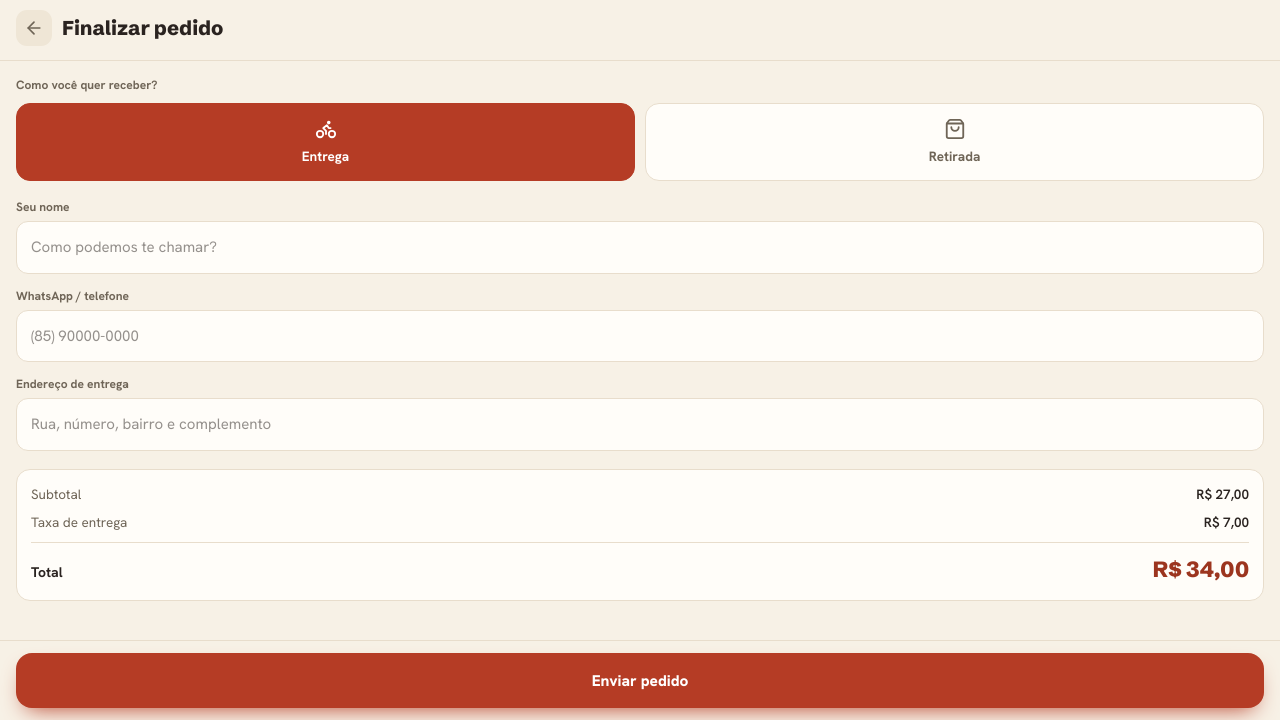
Test: CheckoutScreen order persistence handoff › keeps checkout open and shows retry when a network failure prevents confirmation
Step 1. Type "Cliente Teste" into the field labelled "Seu nome" → {"x": 640, "y": 248}, box [16,221,1264,274]
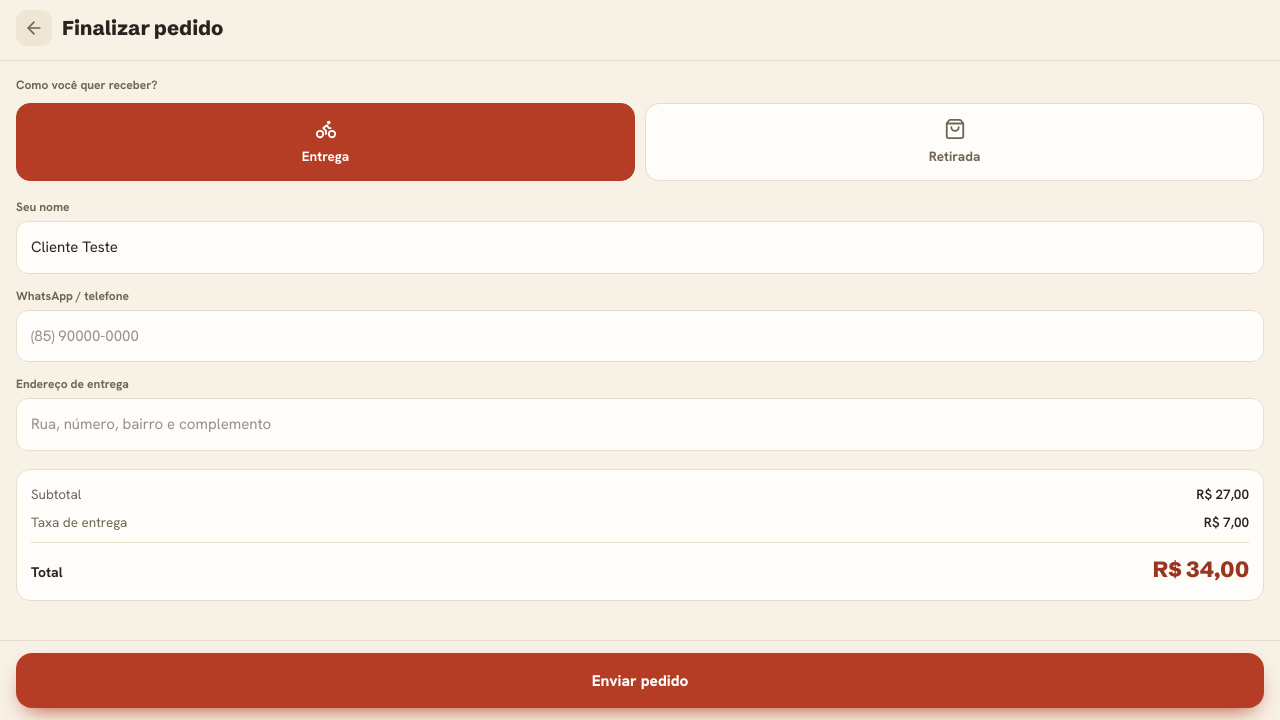
Step 2. Type "(85) 98888-7777" into the field labelled "WhatsApp / telefone" → {"x": 640, "y": 336}, box [16,310,1264,362]
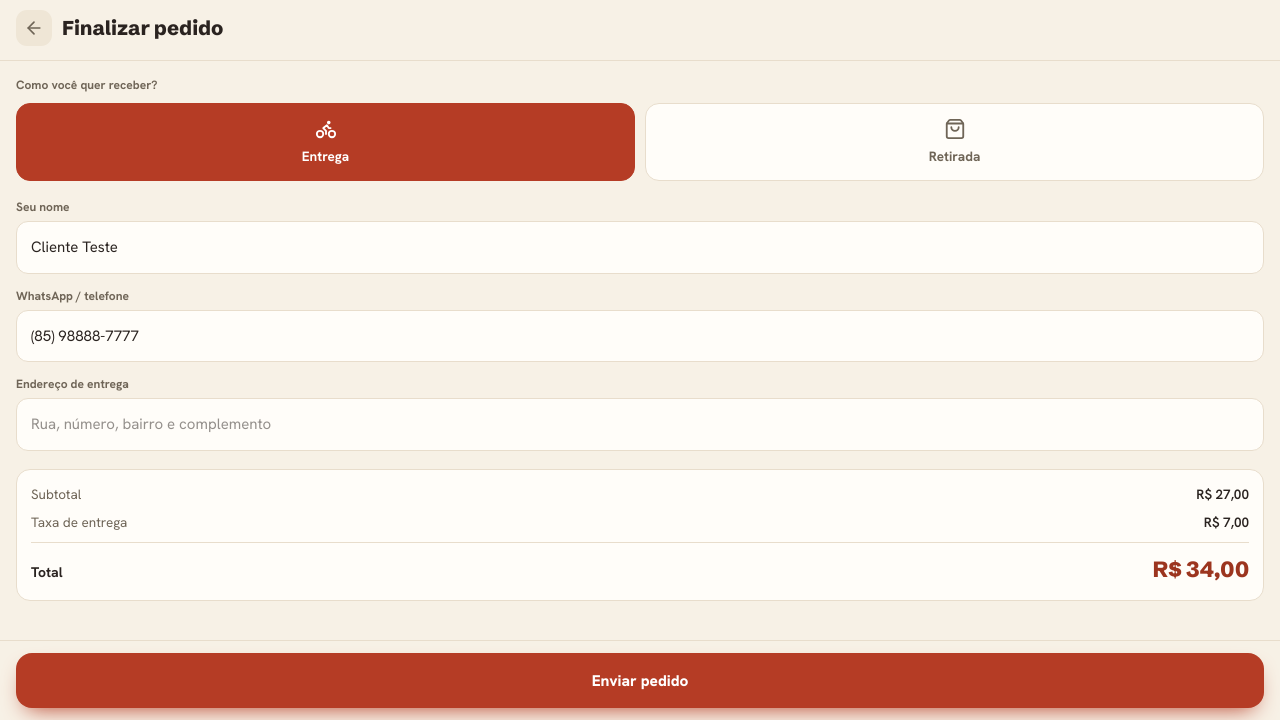
Step 3. Type "Rua Um, 123" into the field labelled "Endereço de entrega" → {"x": 640, "y": 425}, box [16,398,1264,451]
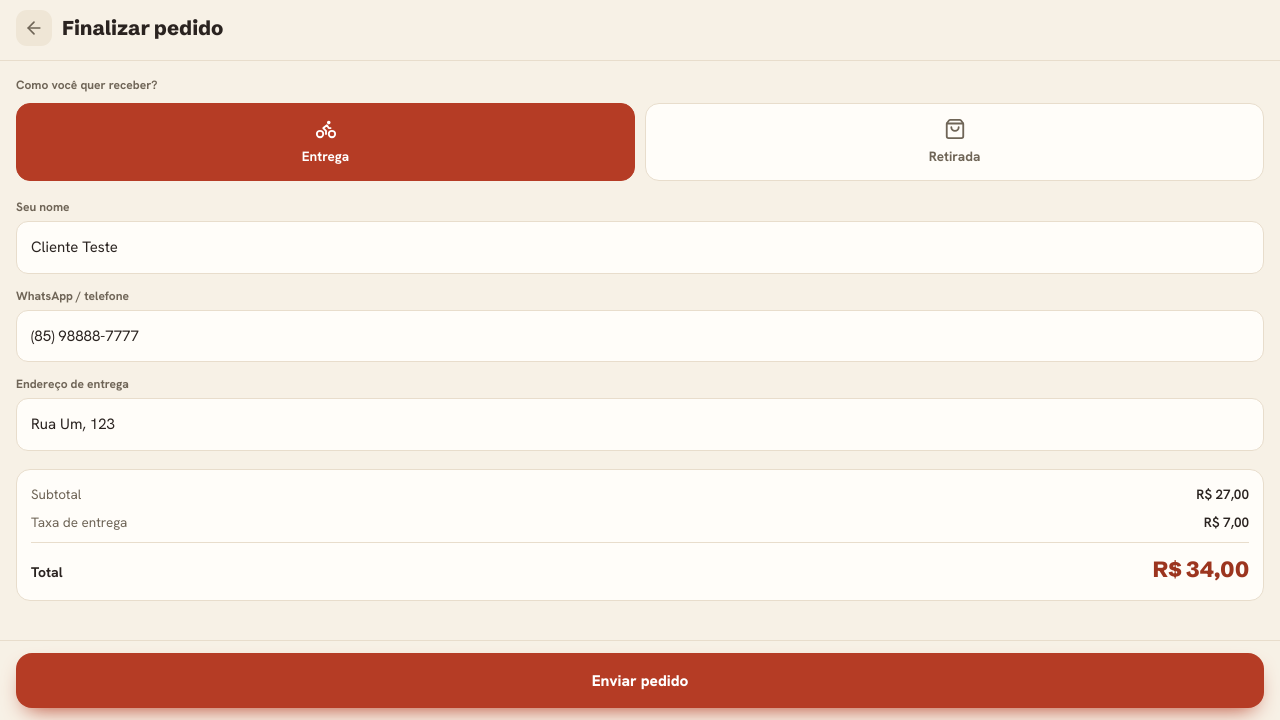
Step 4. Click the button "Enviar pedido" → {"x": 640, "y": 680}, box [16,653,1264,708]
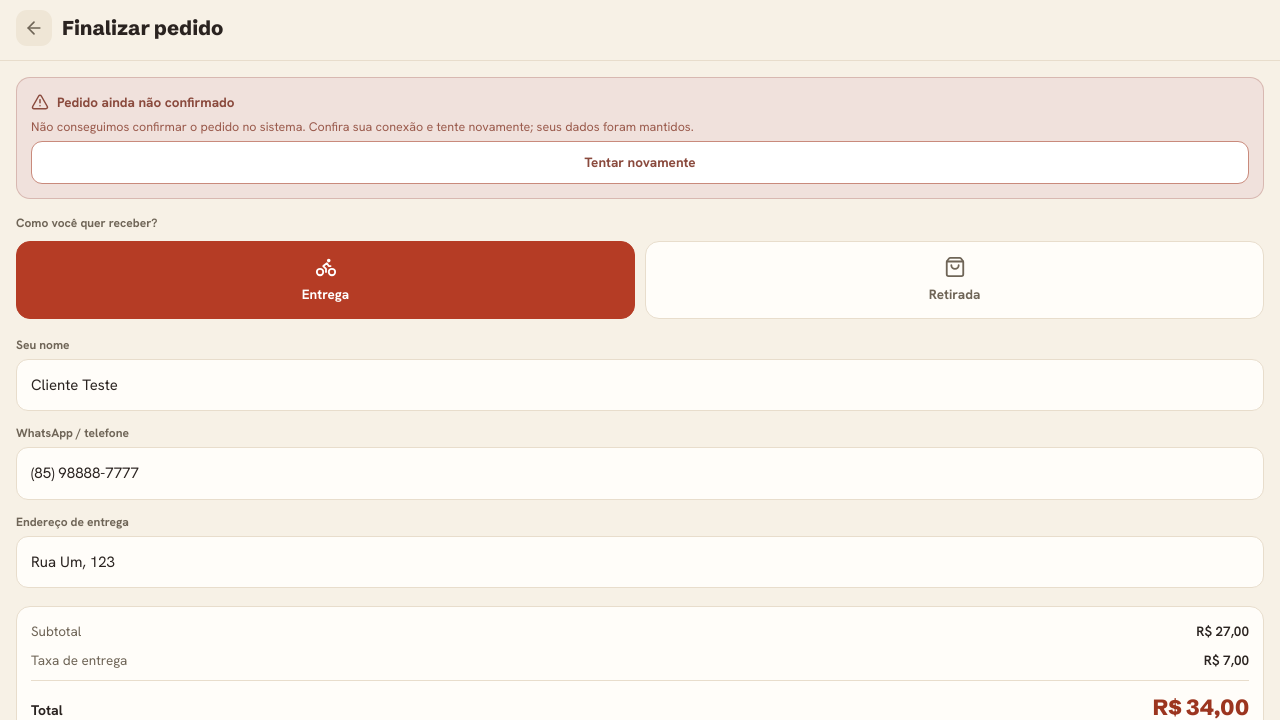
Check: the message shows "Pedido ainda não confirmado", box [57,93,235,111]
Check: the message shows "Não conseguimos confirmar o pedido no sistema", box [31,118,694,135]
Check: the button "Tentar novamente" is shown, box [31,141,1249,184]
